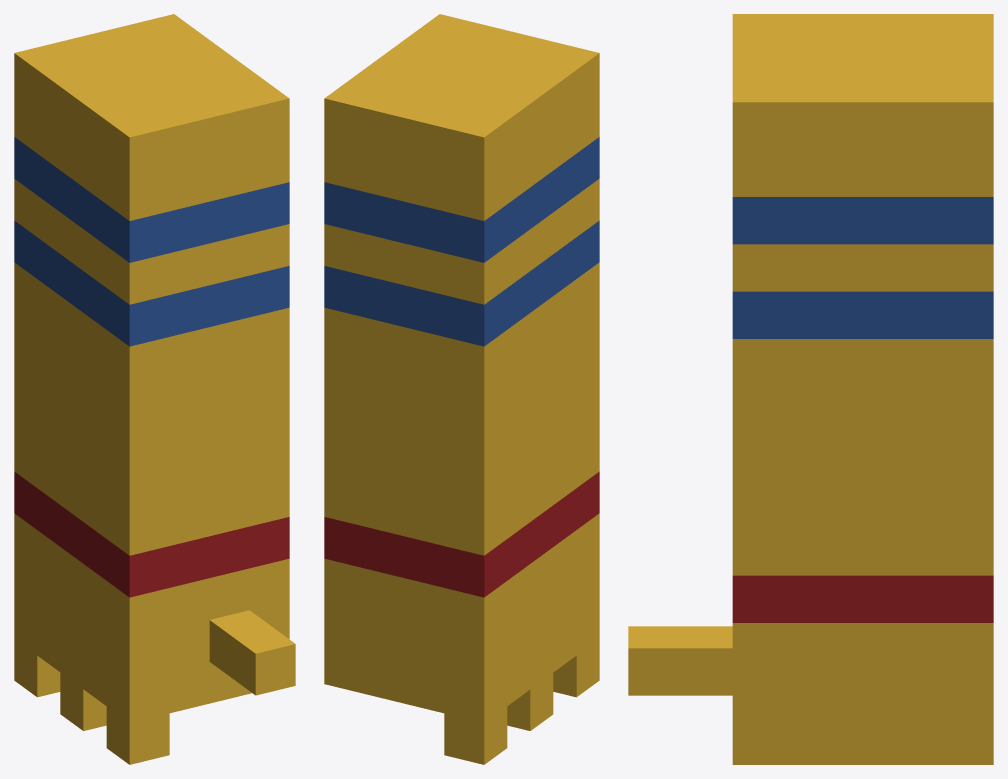
Rendered from Hathor-4.obj.
3 renders of one model, left to right at view 1: azimuth 30°, elevation 25°; view 2: azimuth 150°, elevation 25°; view 3: azimuth 270°, elevation 25°, orthographic. The views are drawn at different scales.
Size of the model in its own units: 0.4 by 1.5 by 0.7.
1 material, 1 textured.
